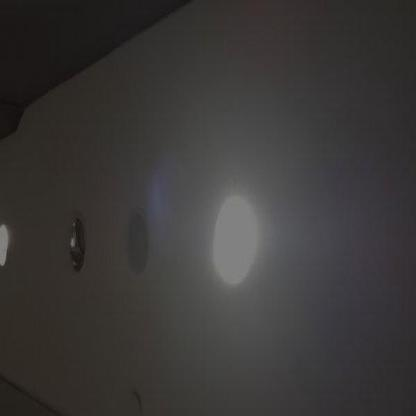light_off: (57, 196, 95, 289)
